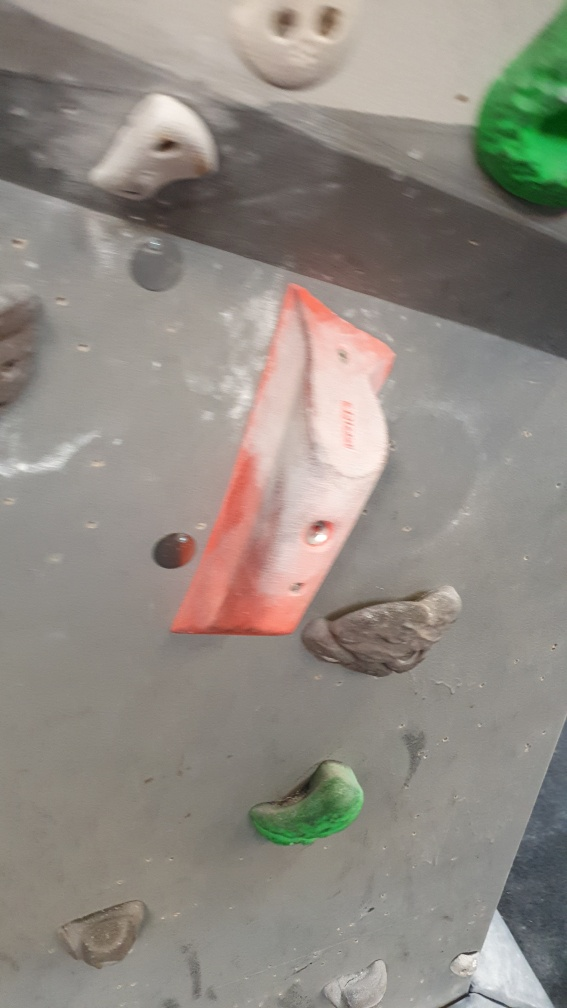Hand Start: (126, 232, 189, 292), (149, 528, 204, 572)
Jug: (301, 580, 464, 681), (248, 753, 367, 849)
Pinch: (161, 284, 401, 641)
